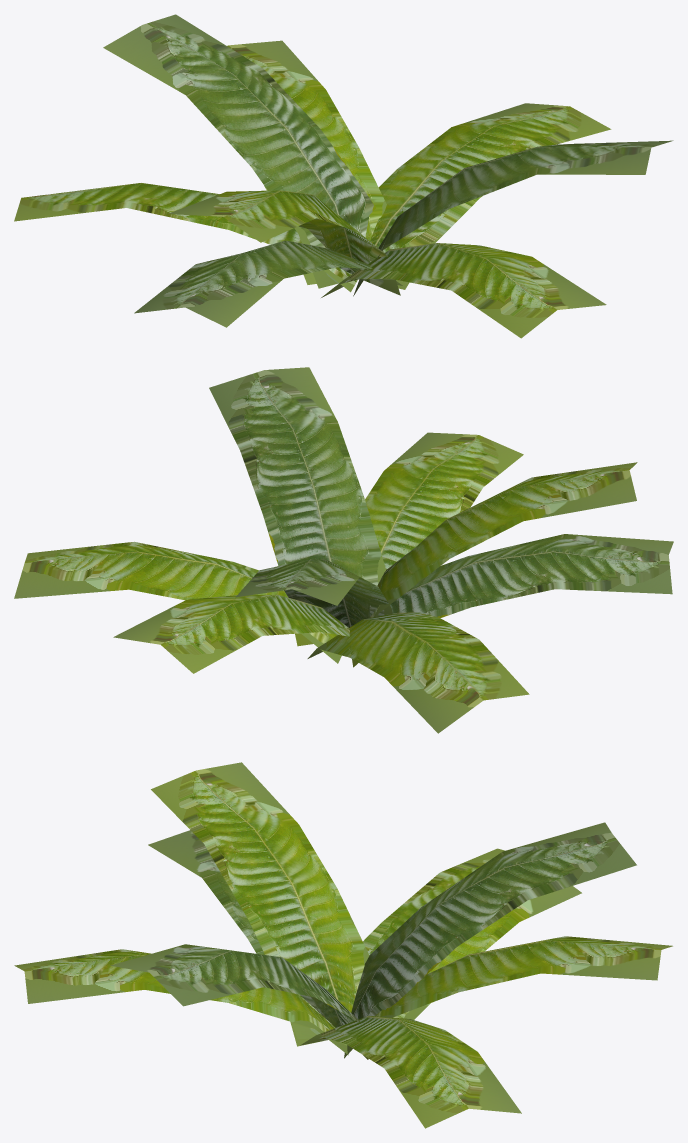
Rendered from BananaPlant.fbx.
3 renders of one model, top to bottom at view 1: azimuth 30°, elevation 25°; view 2: azimuth 150°, elevation 25°; view 3: azimuth 270°, elevation 25°, orthographic. The views are drawn at different scales.
Parts seen in each view (by area): view 1: BananaBush; view 2: BananaBush; view 3: BananaBush.
Boxes of the visible parts, x1=… form: BananaBush: x1=14, y1=14, x2=673, y2=338; BananaBush: x1=14, y1=367, x2=673, y2=733; BananaBush: x1=14, y1=762, x2=672, y2=1128.
Bounding box in the file's own units: 10.04 × 3.04 × 10.35.
